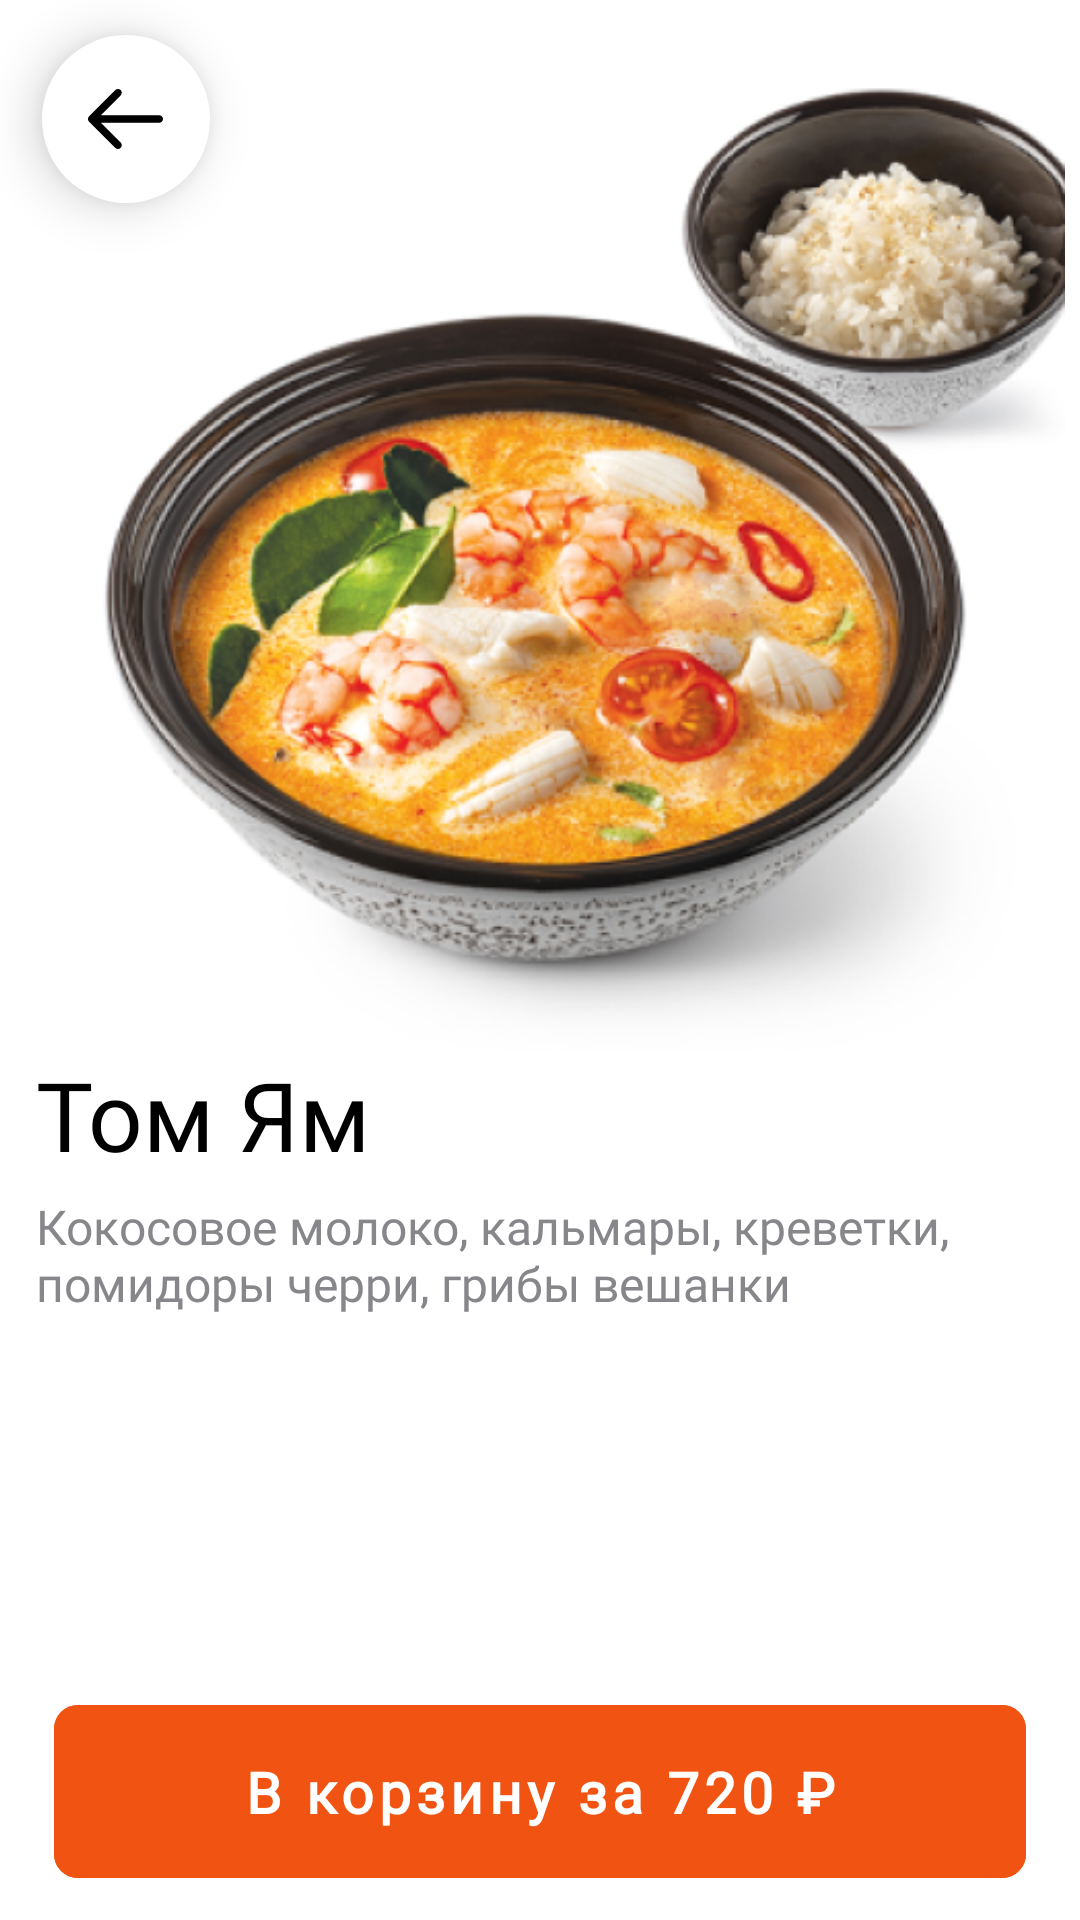

Point at icon controls on the screen. Image size 1080w x 1920h, points as [x,y].
arrow: [102,136]
